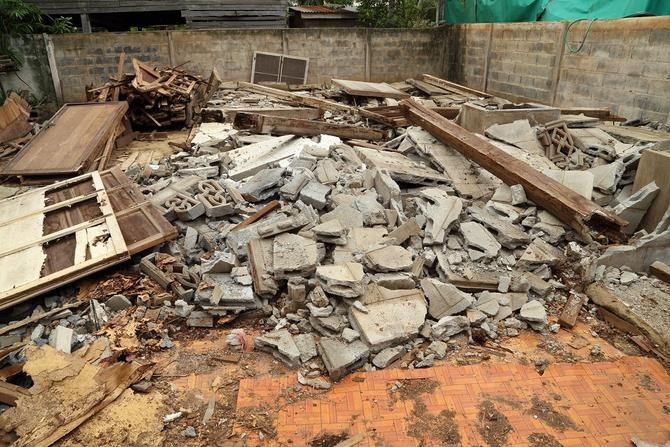rubble: (150, 119, 626, 362)
